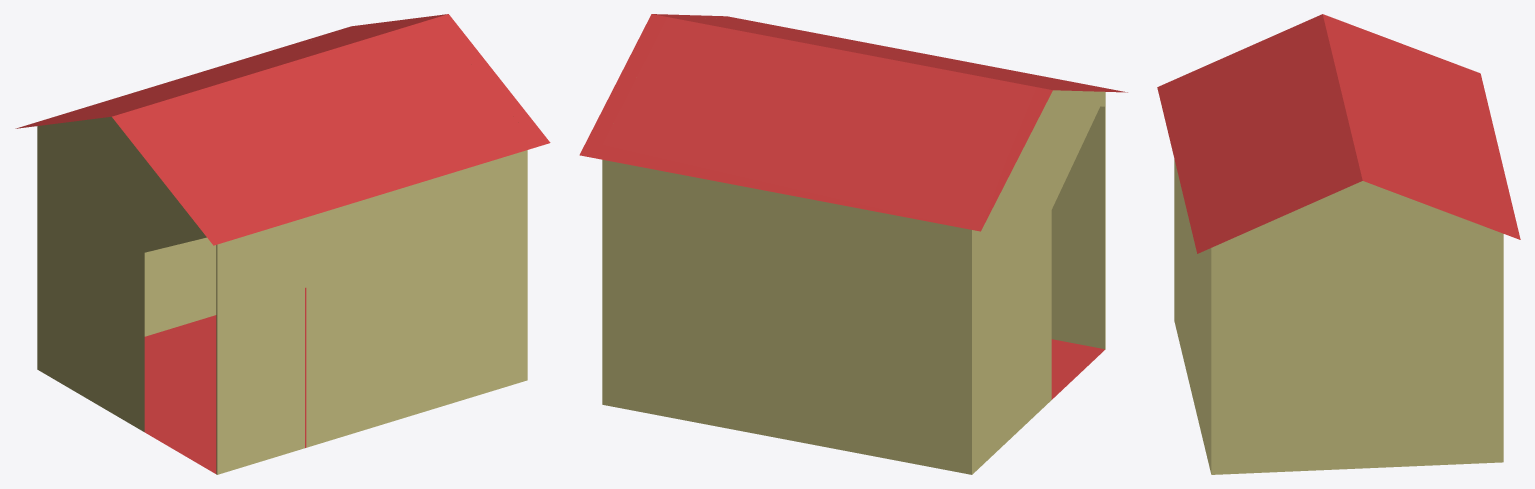
The picture shows the model from 3 angles, left to right: view 1: azimuth 30°, elevation 25°; view 2: azimuth 150°, elevation 25°; view 3: azimuth 270°, elevation 25°; orthographic projection. The views are drawn at different scales.
Bounding box in the file's own units: 13.61 × 11.57 × 10.34.
